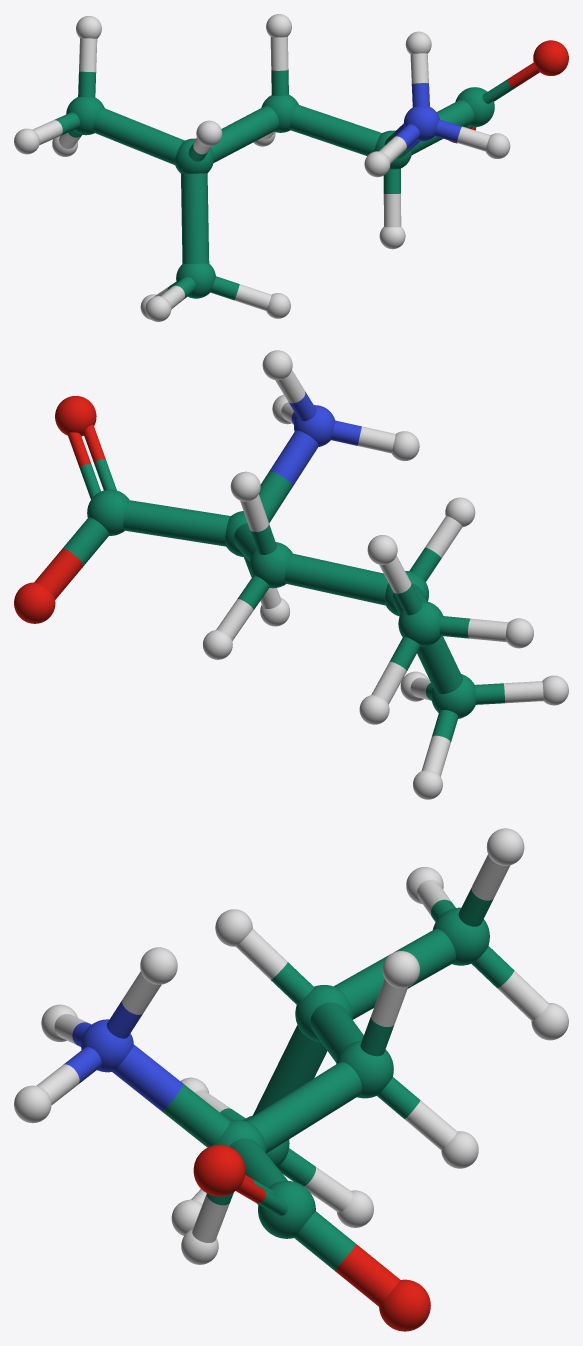
Rendered from LEU.PDB.glb.
The picture shows the model from 3 angles, top to bottom: view 1: azimuth 30°, elevation 25°; view 2: azimuth 150°, elevation 25°; view 3: azimuth 270°, elevation 25°; orthographic projection. The views are drawn at different scales.
Size of the model in its own units: 7.05 by 4.04 by 4.87.
